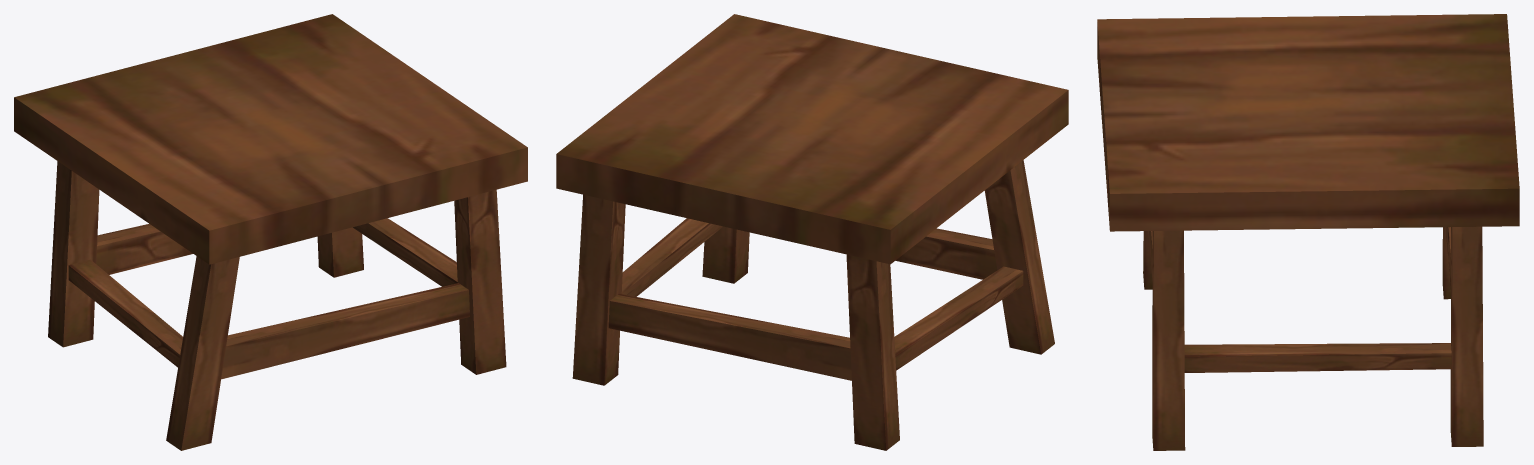
File: cunlou_xiaowujian18.FBX
3 views of the same model, side by side, from view 1: azimuth 30°, elevation 25°; view 2: azimuth 150°, elevation 25°; view 3: azimuth 270°, elevation 25° (orthographic). The views are drawn at different scales.
Visible parts, largest first — view 1: cunlou_xiaowujian18; view 2: cunlou_xiaowujian18; view 3: cunlou_xiaowujian18.
Boxes of the visible parts, <box> form: cunlou_xiaowujian18: <box>14,14,527,450</box>; cunlou_xiaowujian18: <box>556,14,1068,450</box>; cunlou_xiaowujian18: <box>1097,14,1519,450</box>.
Bounding box in the file's own units: 75.77 × 50.65 × 75.16.
